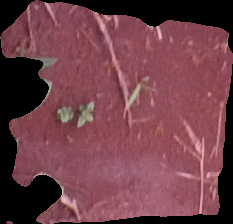soil: (2, 2, 230, 221)
